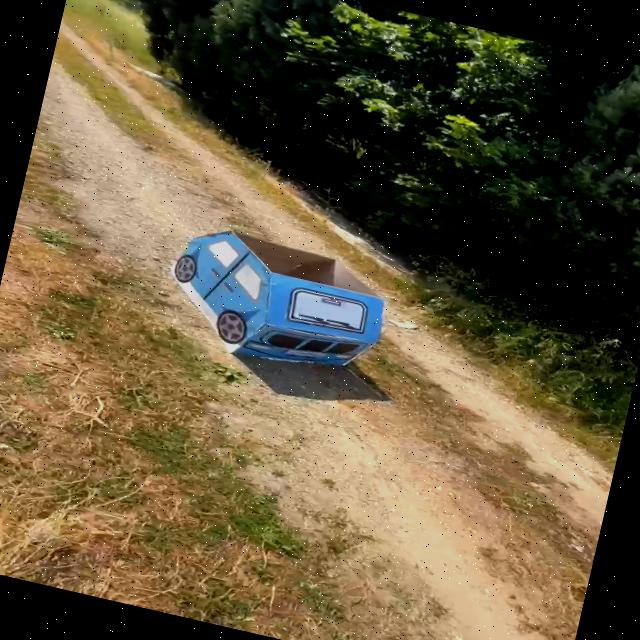blue_car: (124, 199, 435, 395)
